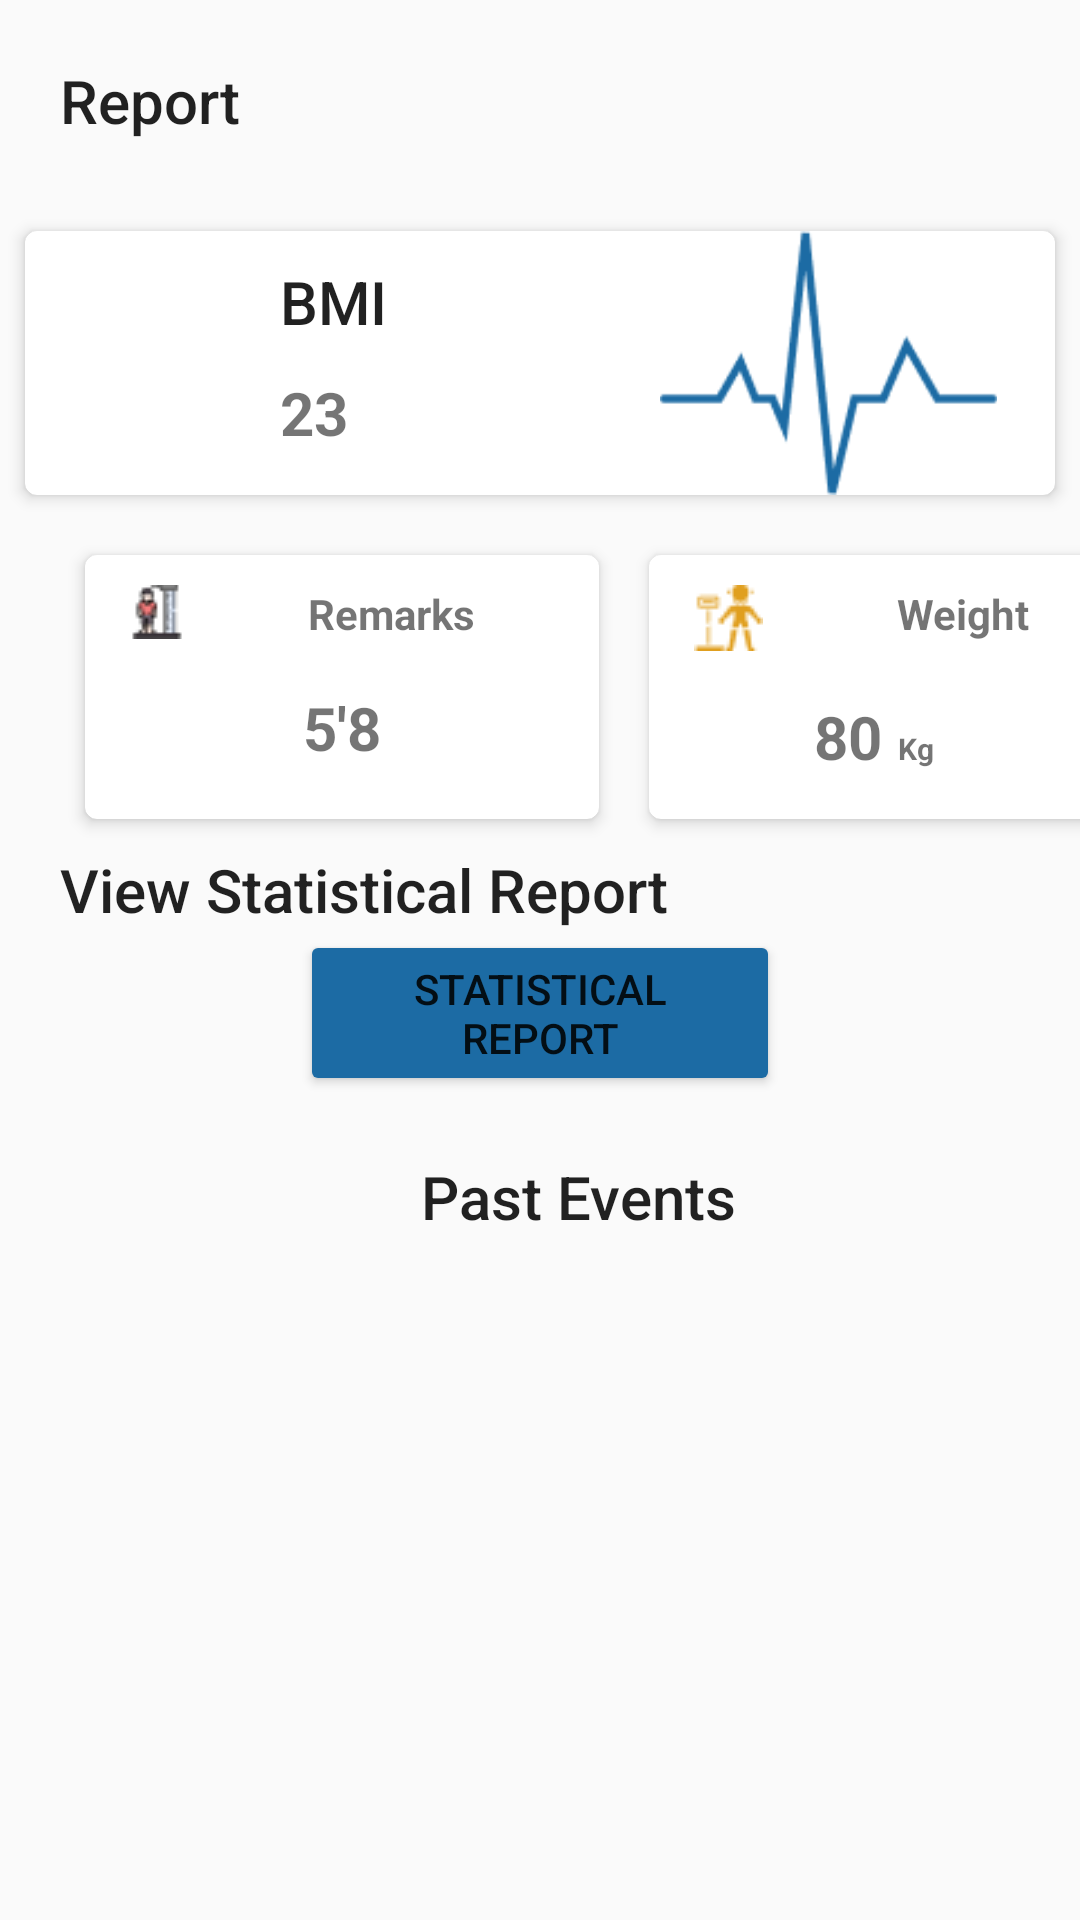

Screen size 1080px x 1920px. Icon name, then its center in pixels as (x,y):
height: (157,612)
